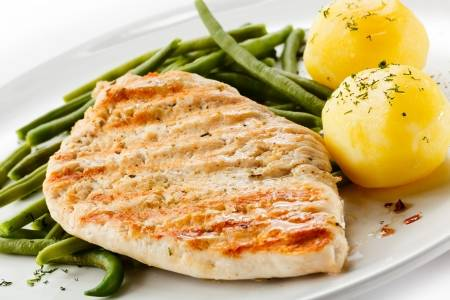boiled potatoes: (322, 65, 449, 188), (303, 1, 437, 88)
